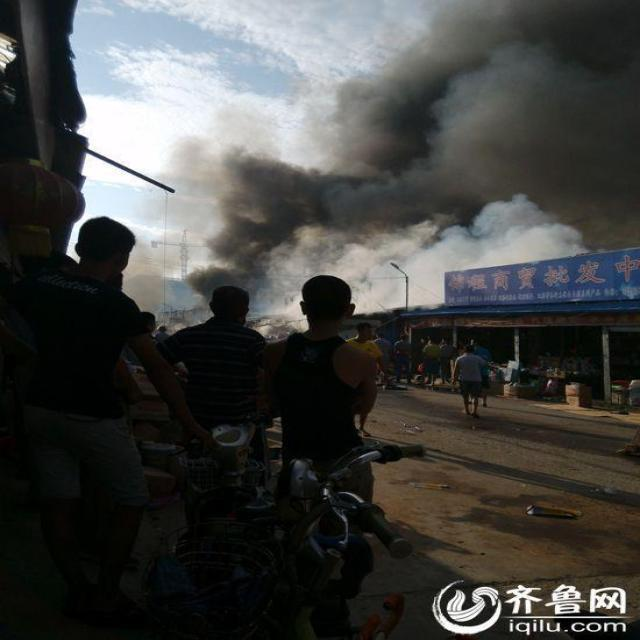Smoke: (161, 2, 638, 310)
